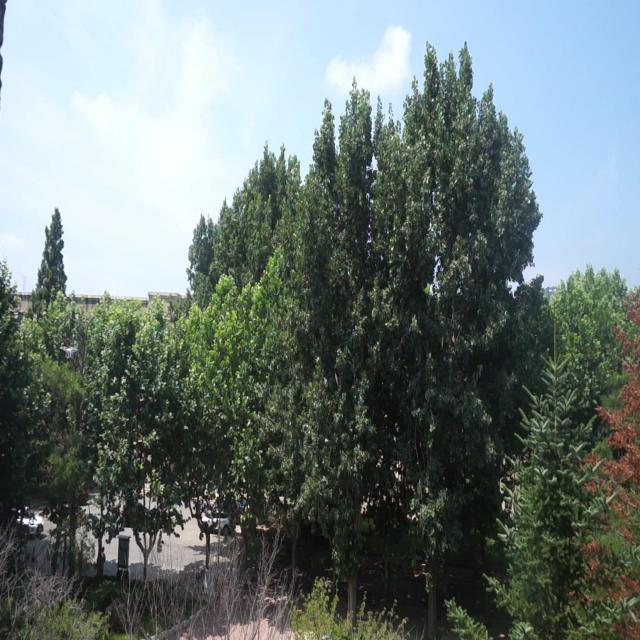UAV: (60, 346, 78, 358)
